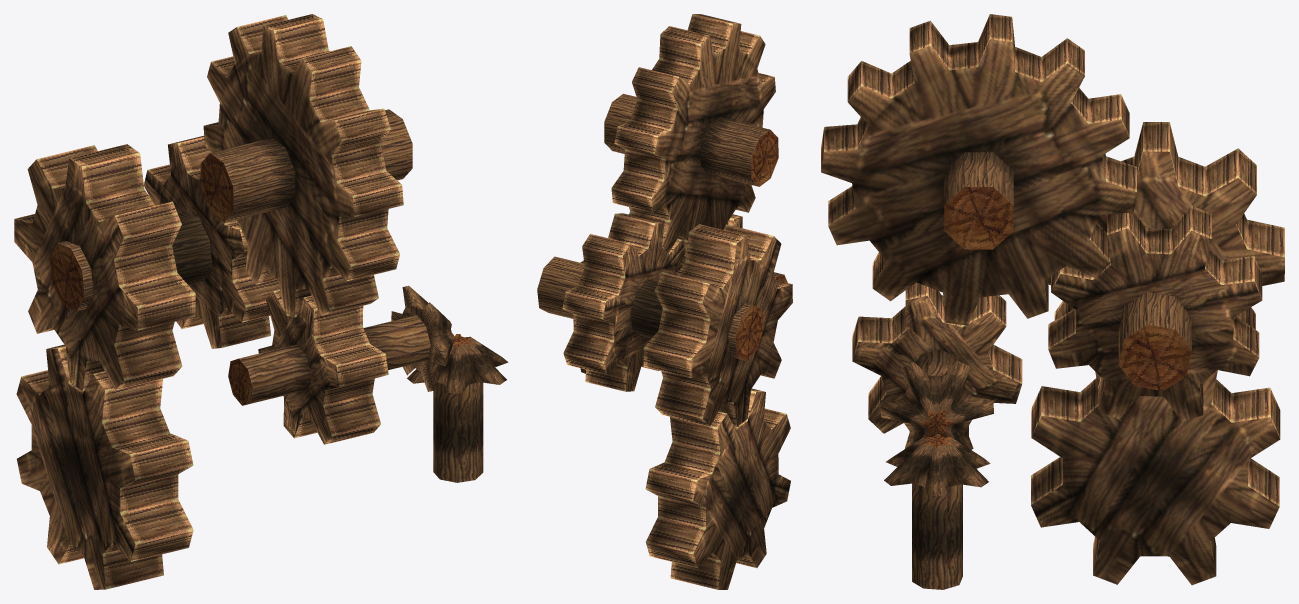
Rendered from INST_SWORDLIGHT_GEARSA.fbx.
3 views of the same model, side by side, from view 1: azimuth 30°, elevation 25°; view 2: azimuth 150°, elevation 25°; view 3: azimuth 270°, elevation 25° (orthographic). The views are drawn at different scales.
Visible parts, largest first — view 1: INST_SWORDLIGHT_GEARSA; view 2: INST_SWORDLIGHT_GEARSA; view 3: INST_SWORDLIGHT_GEARSA.
Part boxes in pixels (x1,y1,x2,y2): INST_SWORDLIGHT_GEARSA: [14, 14, 508, 589]; INST_SWORDLIGHT_GEARSA: [537, 14, 792, 589]; INST_SWORDLIGHT_GEARSA: [821, 14, 1284, 589].
Size of the model in its own units: 26966 by 44446 by 31027.
4 materials, 4 textured.
